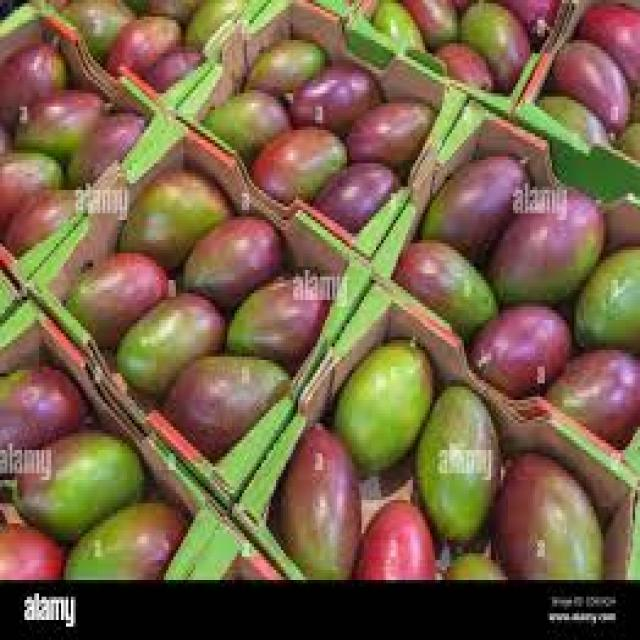mango: (115, 293, 225, 403)
